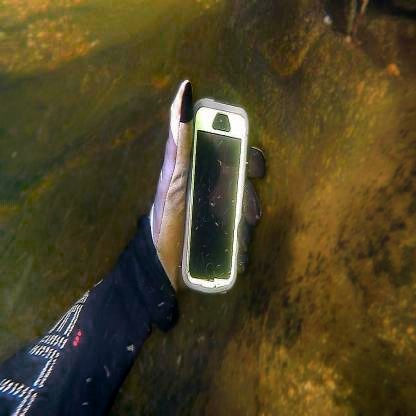cellphone: (181, 96, 249, 296)
